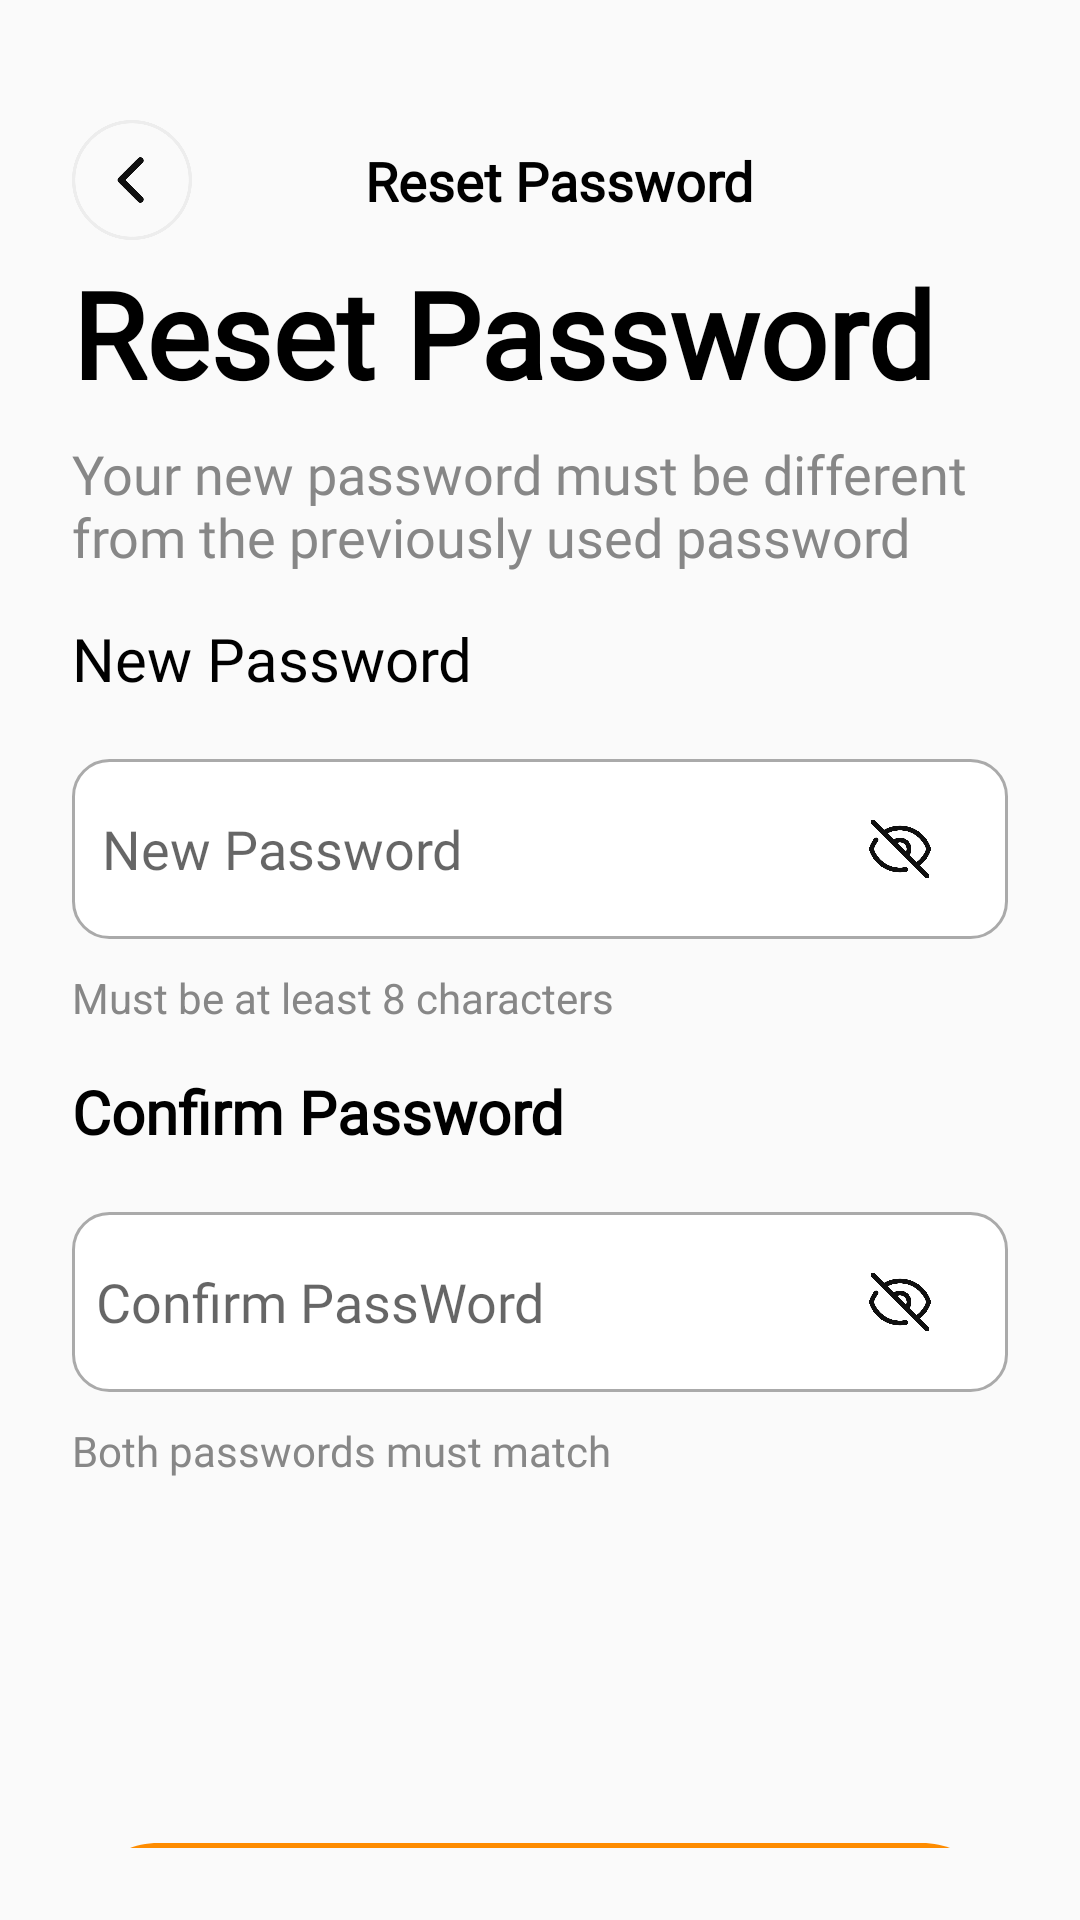

Named icons in this screenshot (1080×1920) and their bounding boxes, [left=x1, top=y1, right=x2, bottom=y2]:
back: [left=117, top=157, right=144, bottom=203]
Show Password: [left=869, top=820, right=931, bottom=878], [left=869, top=1273, right=931, bottom=1331]
